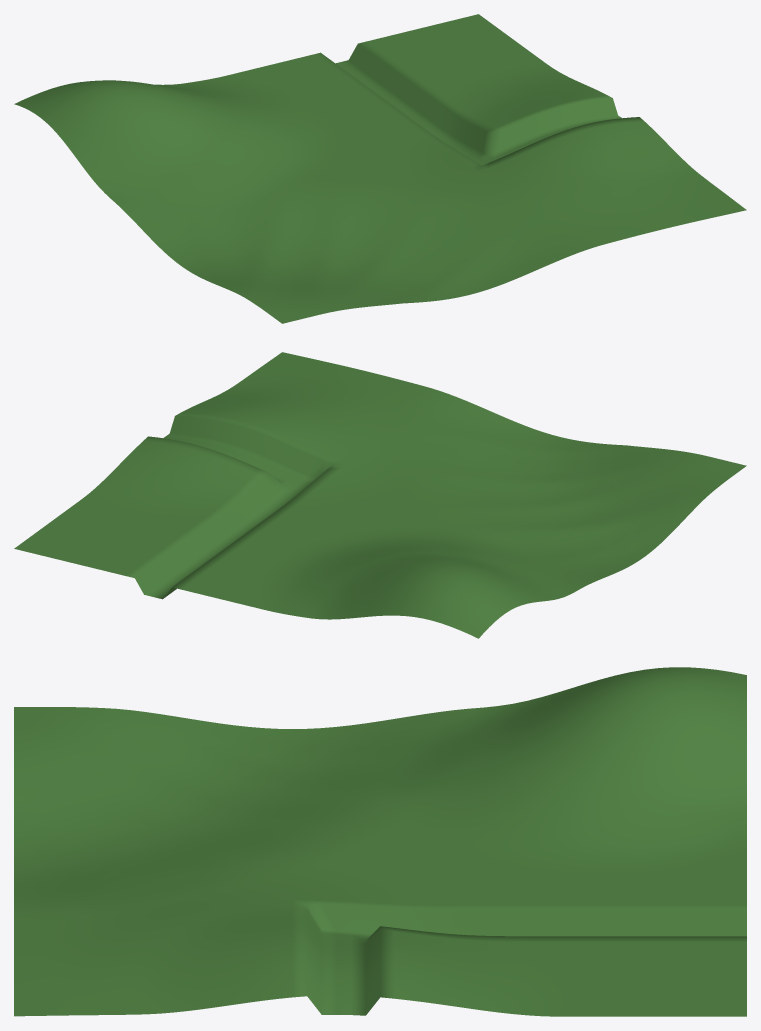
File: Stage.fbx
The picture shows the model from 3 angles, top to bottom: view 1: azimuth 30°, elevation 25°; view 2: azimuth 150°, elevation 25°; view 3: azimuth 270°, elevation 25°; orthographic projection. The views are drawn at different scales.
Parts seen in each view (by area): view 1: pPlane1; view 2: pPlane1; view 3: pPlane1.
Boxes of the visible parts, left/top/right/bottom form: pPlane1: left=14, top=14, right=746, bottom=323; pPlane1: left=14, top=352, right=746, bottom=638; pPlane1: left=14, top=667, right=746, bottom=1016.
Size of the model in its own units: 50 by 6.44 by 50.
